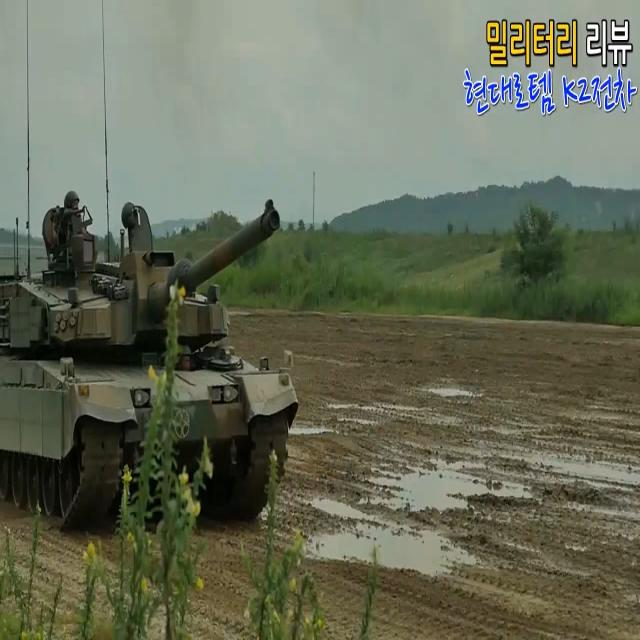korea tank: (0, 190, 298, 529)
